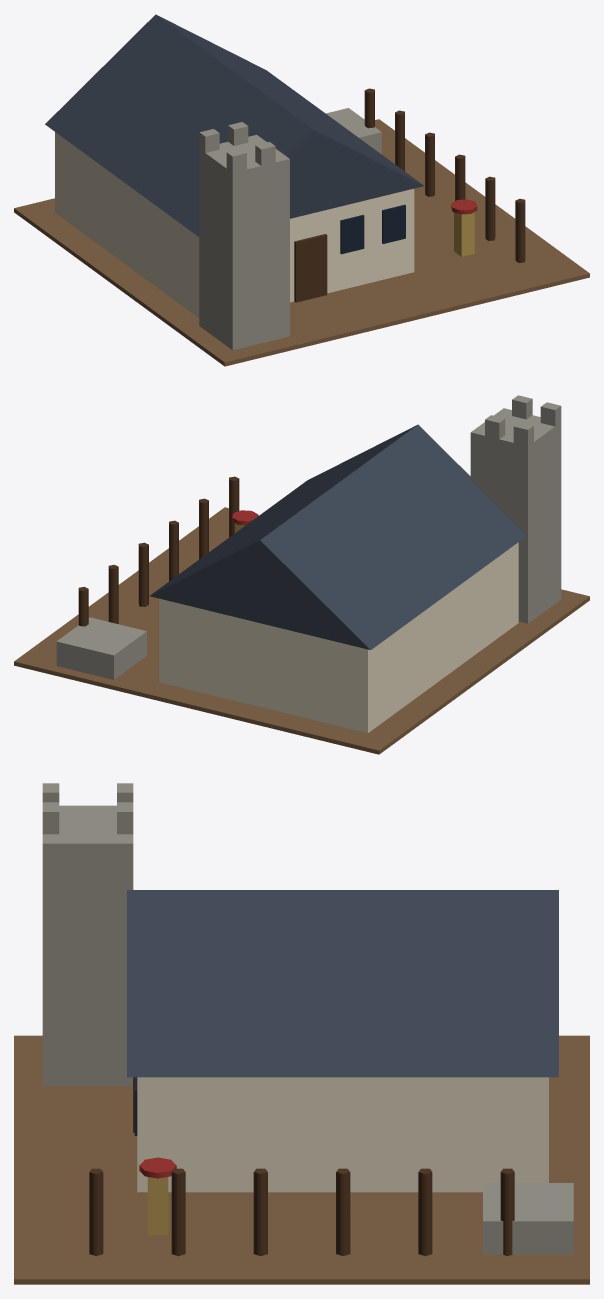
Rendered from bld_special_barracks_a03_lod1.glb.
3 views of the same model, one above another, from view 1: azimuth 30°, elevation 25°; view 2: azimuth 150°, elevation 25°; view 3: azimuth 270°, elevation 25° (orthographic). The views are drawn at different scales.
Visible parts, largest first — view 1: body; view 2: body; view 3: body.
Boxes of the visible parts, box(x1,y1,x2,y2) form: body: box(14, 14, 589, 366); body: box(14, 395, 589, 754); body: box(14, 783, 589, 1284).
Bounding box in the file's own units: 14 × 7.25 × 14.
